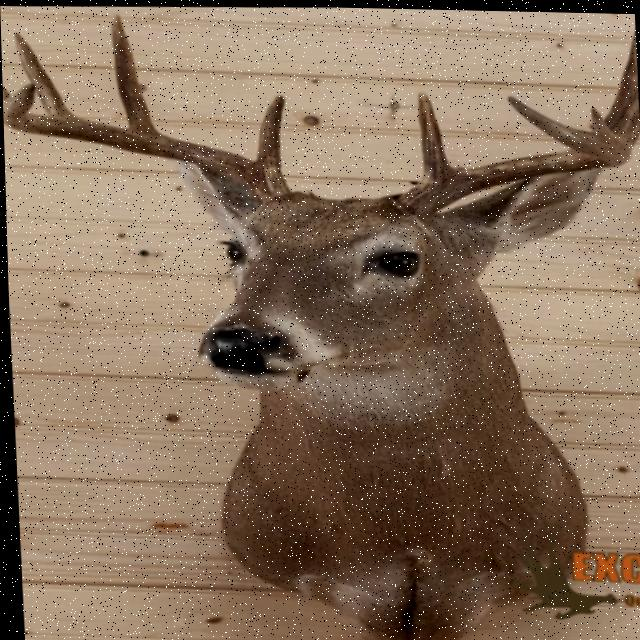E1: (589, 104, 618, 140)
L-F: (389, 92, 631, 215)
L-G1: (416, 88, 453, 174)
R-F: (2, 82, 289, 204)
R-G1: (254, 92, 284, 168)
R-G2: (110, 12, 157, 132)
R-G3: (13, 31, 74, 116)
